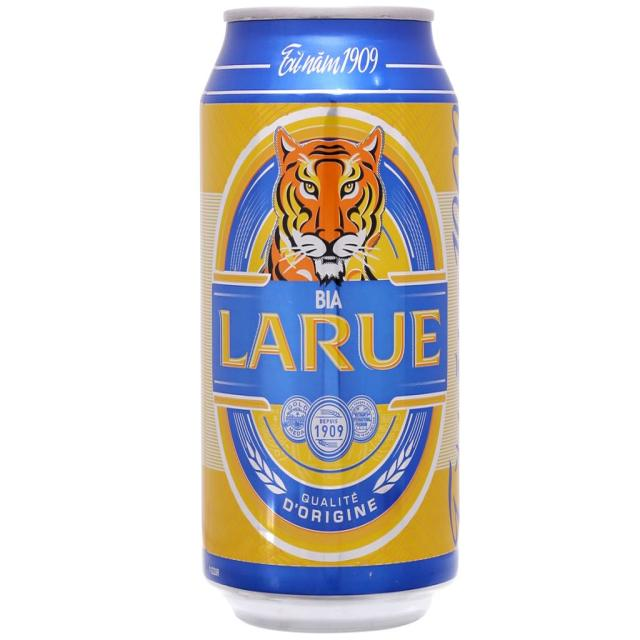metal: (199, 6, 460, 633)
